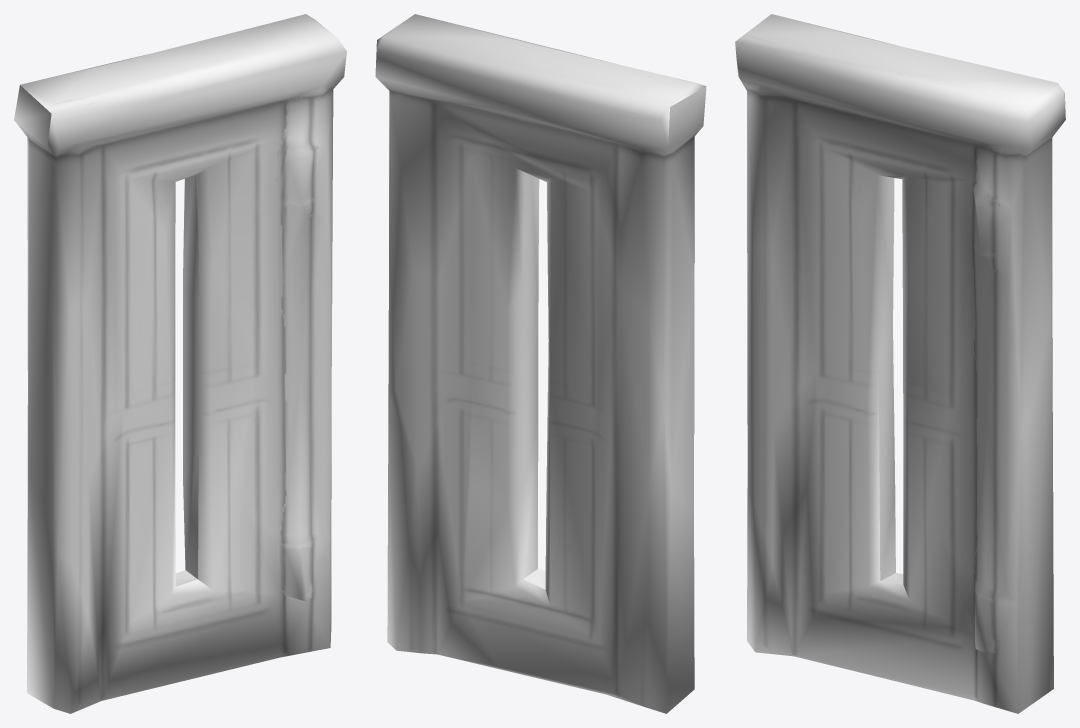
Rendered from beadboard-cottage-door.glb.
3 views of the same model, side by side, from view 1: azimuth 30°, elevation 25°; view 2: azimuth 150°, elevation 25°; view 3: azimuth 330°, elevation 25° (orthographic).
Visible parts, largest first — view 1: geometry_0.001; view 2: geometry_0.001; view 3: geometry_0.001.
Part boxes in pixels (<box>): geometry_0.001: <box>14,14,346,713</box>; geometry_0.001: <box>375,14,706,713</box>; geometry_0.001: <box>735,14,1065,713</box>.
Bounding box in the file's own units: 0.5076 × 0.9991 × 0.1296.
1 material, 1 textured.
